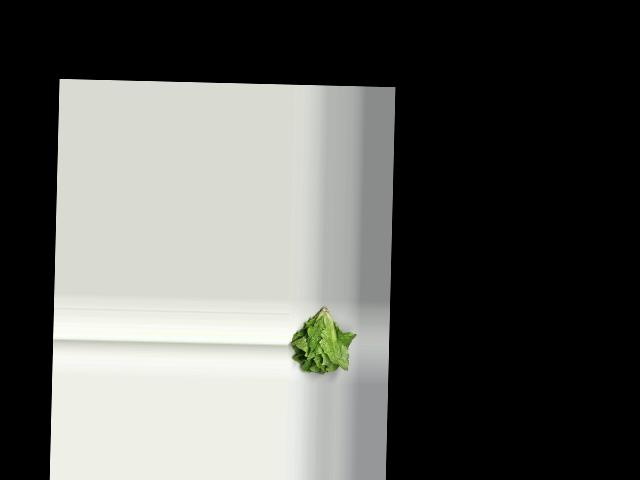lettuce: (286, 301, 355, 377)
